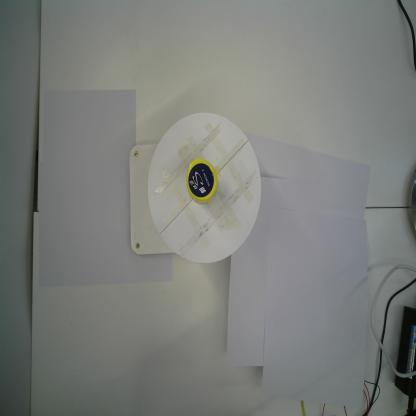Gum: (186, 158, 220, 202)
